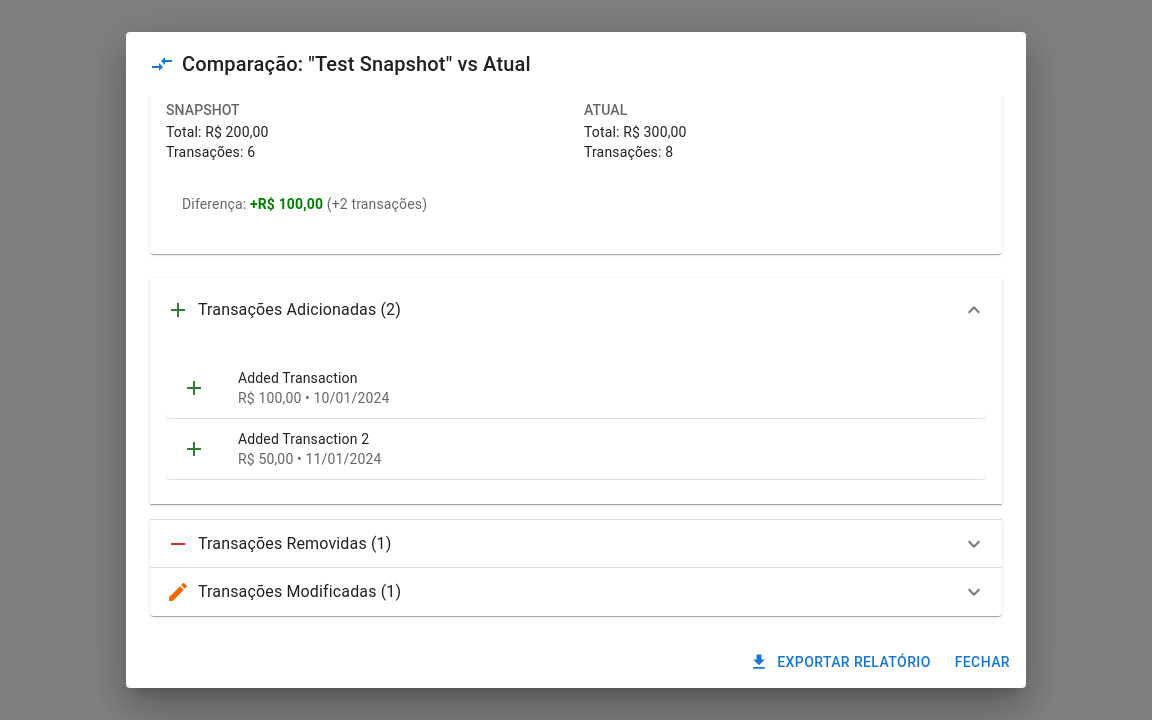
Test case: SnapshotComparison › Transaction Sections › shows change chips for modified transactions
The image size is (1152, 720).
(page scrolled)
Check: the text "Added Transaction" is shown, box [238,370,358,386]
Note: Expand modified section if collapsed
What coordinates should you click on to do the following:
click the button "Transações Modificadas (1)"
I would click on:
 (292, 592)
Its box is [150,568,1002,616].
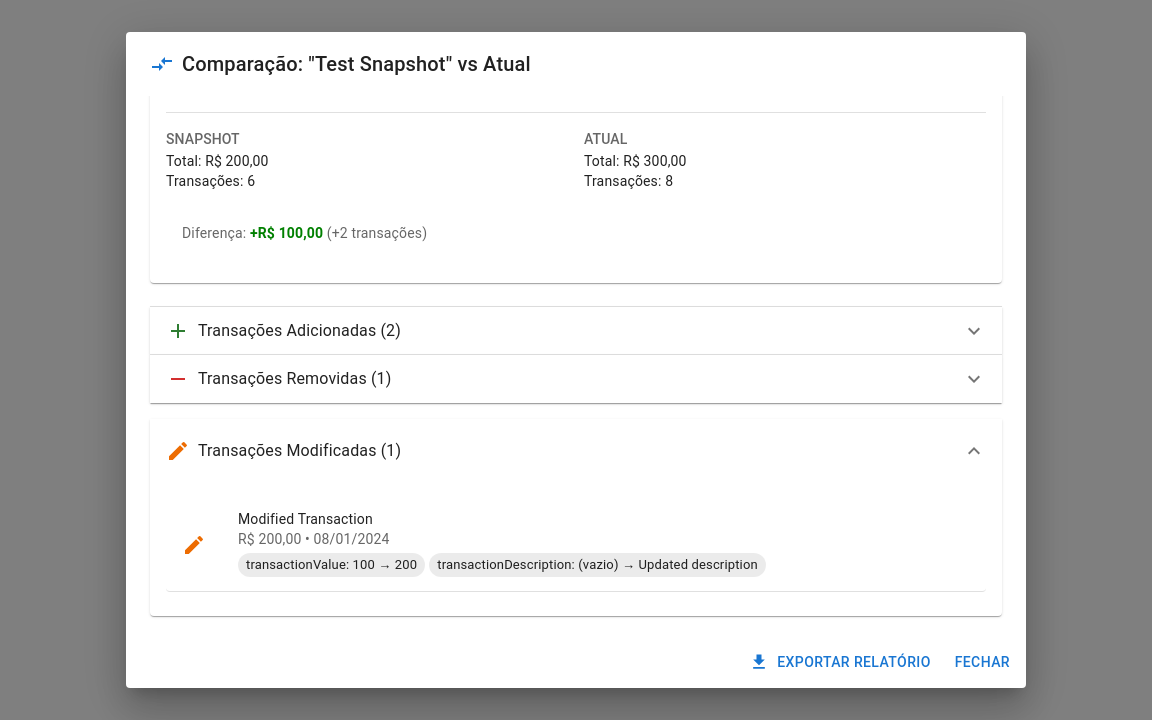
Check: the text "transactionValue: 100 → 200" is shown, box [238,556,425,574]
